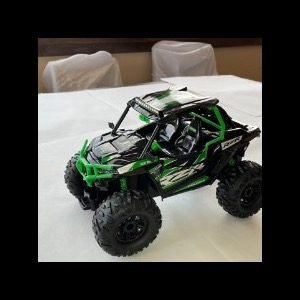polaris: (61, 86, 262, 258)
